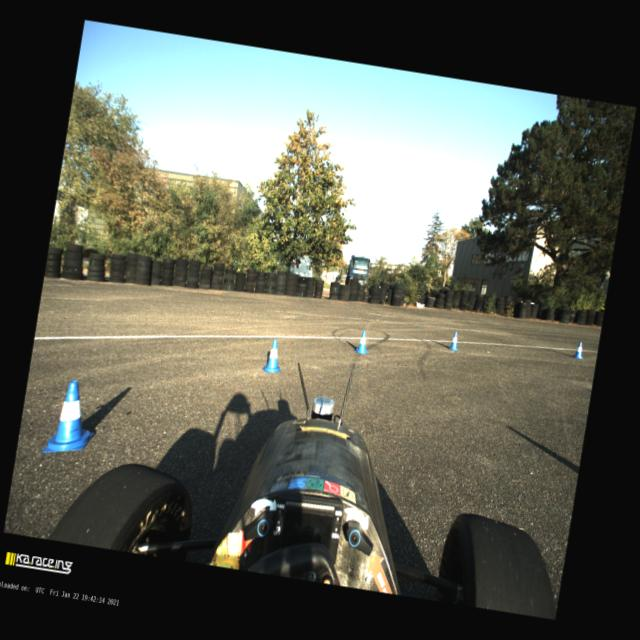blue_cone: (43, 378, 102, 460), (261, 338, 286, 376), (354, 330, 372, 354), (448, 332, 462, 352), (572, 340, 586, 360)
